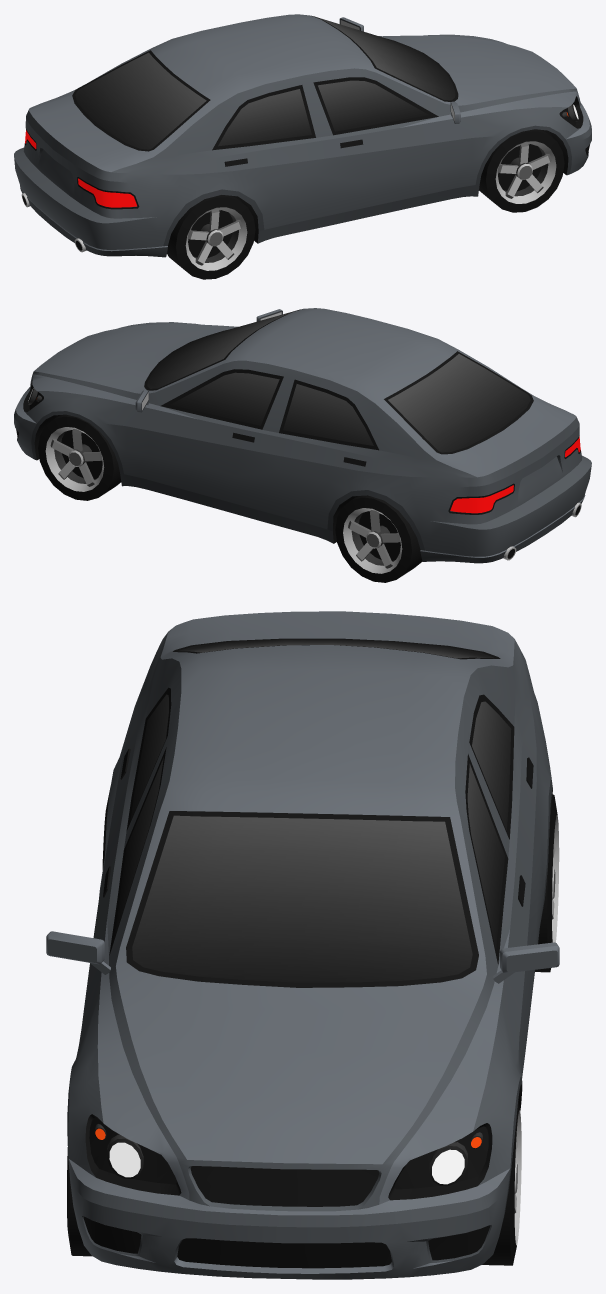
The model's file is Car_228.glb.
The picture shows the model from 3 angles, top to bottom: view 1: azimuth 30°, elevation 25°; view 2: azimuth 150°, elevation 25°; view 3: azimuth 270°, elevation 25°; orthographic projection. The views are drawn at different scales.
Parts seen in each view (by area): view 1: Car_228, wheel_3_Car_228_Wheel_3R, wheel_1_Car_228_Wheel_1R; view 2: Car_228, wheel_2_Car_228_Wheel_2L, wheel_0_Car_228_Wheel_1L; view 3: Car_228, wheel_0_Car_228_Wheel_1L, wheel_2_Car_228_Wheel_2L.
Boxes of the visible parts, x1,y1,x2,y2 form: Car_228: (14,14,591,257); wheel_3_Car_228_Wheel_3R: (167,195,255,279); wheel_1_Car_228_Wheel_1R: (479,129,564,212); Car_228: (14,308,591,563); wheel_2_Car_228_Wheel_2L: (335,495,422,582); wheel_0_Car_228_Wheel_1L: (38,414,121,500); Car_228: (46,611,559,1279); wheel_0_Car_228_Wheel_1L: (482,1100,521,1265); wheel_2_Car_228_Wheel_2L: (535,794,559,972).
Bounding box in the file's own units: 4.34 × 1.38 × 1.89.
Materials: 2 (2 with a texture image).
